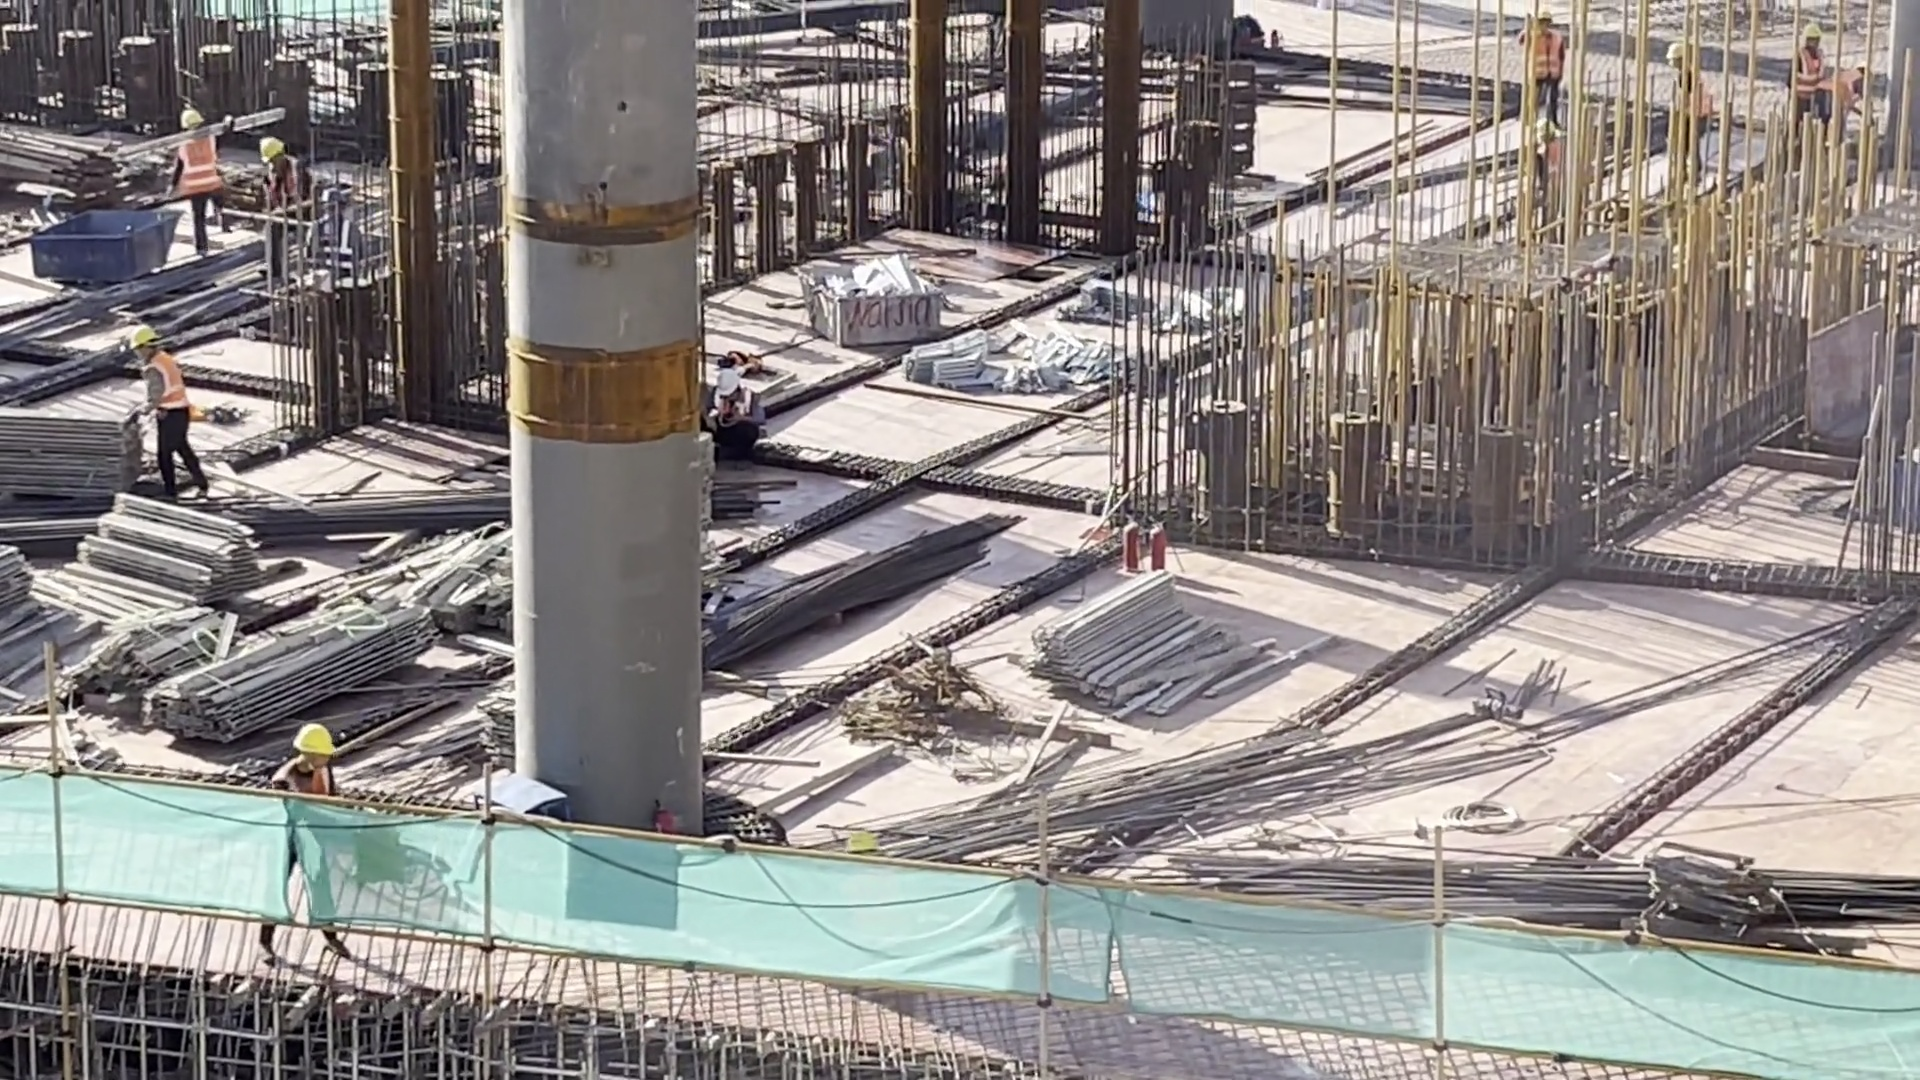helmet: (288, 719, 329, 758), (122, 320, 163, 358), (255, 128, 281, 158), (178, 105, 201, 135), (712, 371, 740, 391)
person: (93, 320, 211, 497), (250, 127, 327, 289), (258, 705, 352, 827), (164, 98, 229, 261), (1503, 9, 1581, 139), (689, 365, 767, 453), (1782, 11, 1825, 145)
vest: (280, 753, 334, 853), (167, 132, 225, 200), (137, 358, 191, 404), (270, 164, 308, 206)
